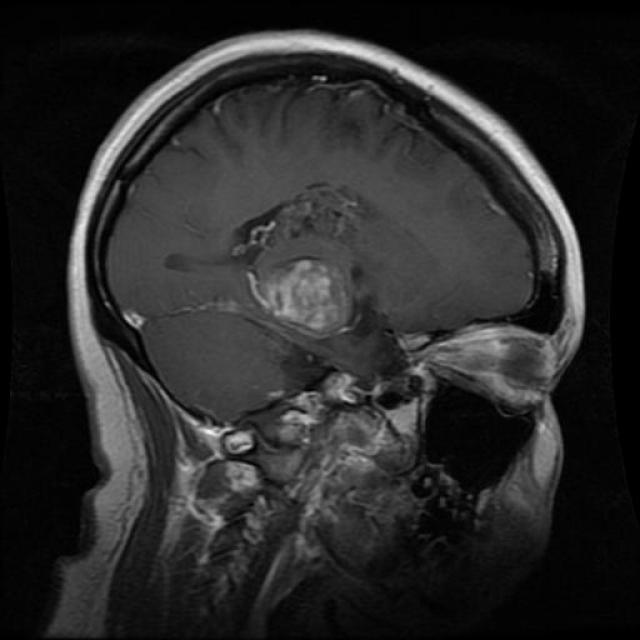Brain-Tumor: (232, 175, 380, 350)
eye: (416, 308, 580, 416)
